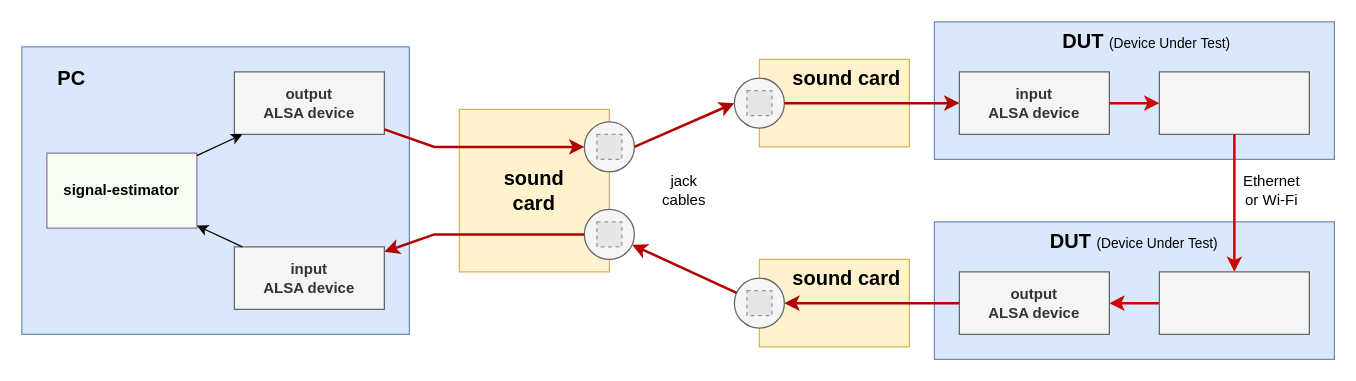
Some shapes in this 1356 by 381 pixel diagram are drawn without their labels. Grey dashed boxes stand in for pictures. Each missing label, with the box of its shape:
network receiver: (1158, 271, 1309, 334)
network sender: (1158, 71, 1309, 134)
